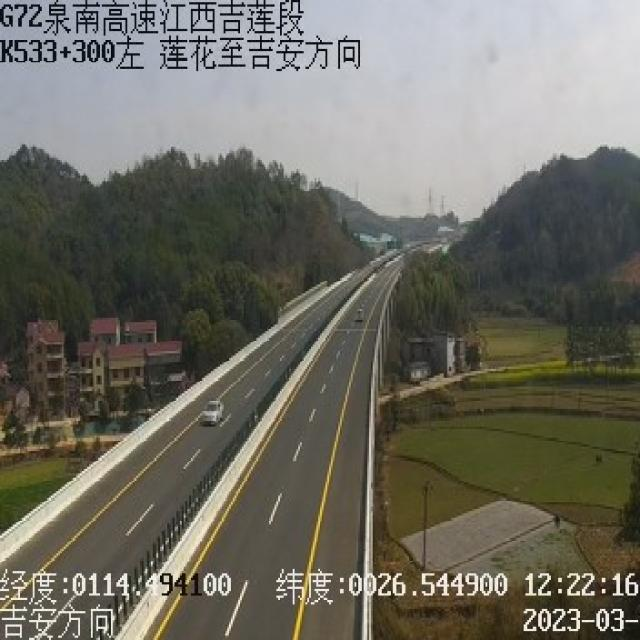point: (371, 220, 426, 276)
